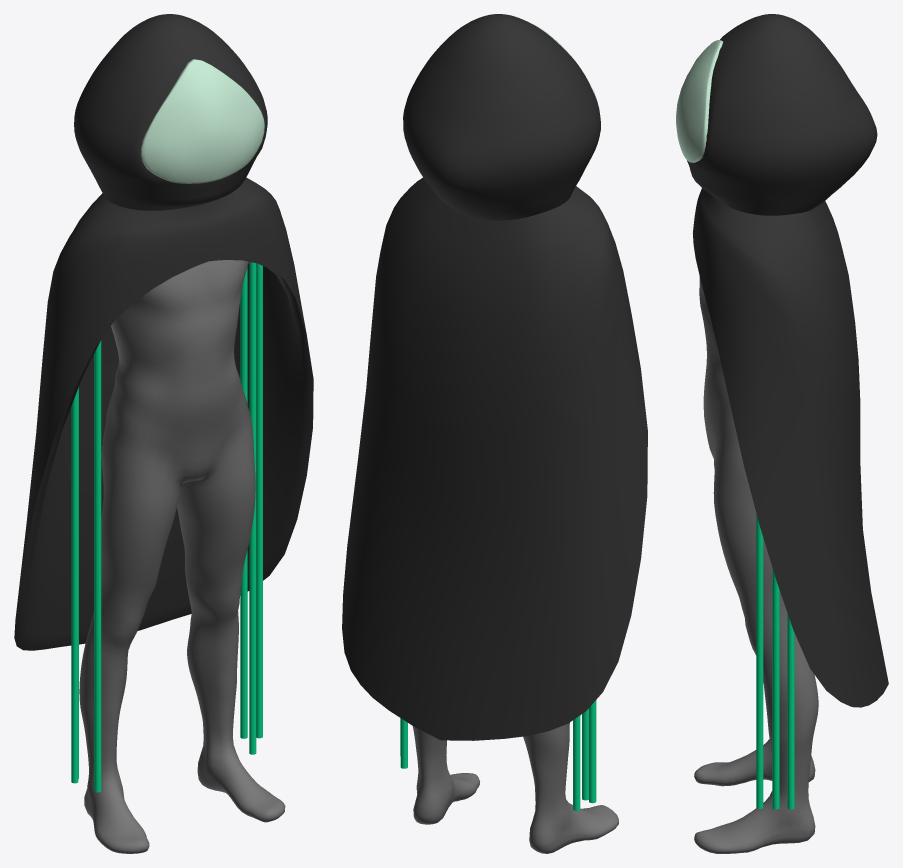
File: SM_Character_Healer.fbx
3 views of the same model, side by side, from view 1: azimuth 30°, elevation 25°; view 2: azimuth 150°, elevation 25°; view 3: azimuth 270°, elevation 25° (orthographic). The views are drawn at different scales.
Visible parts, largest first — view 1: Healer02; view 2: Healer02; view 3: Healer02.
Boxes of the visible parts, <box> form: Healer02: <box>14,14,313,853</box>; Healer02: <box>342,14,647,853</box>; Healer02: <box>676,14,888,853</box>.
Size of the model in its own units: 72.09 by 195 by 47.31.
